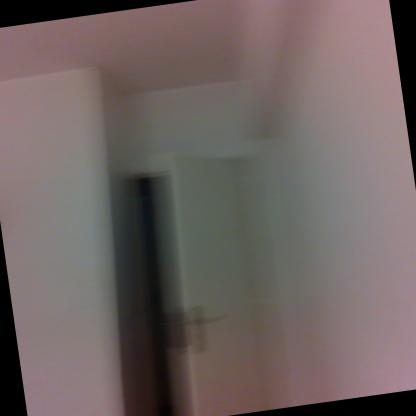semi: (108, 145, 286, 415)
